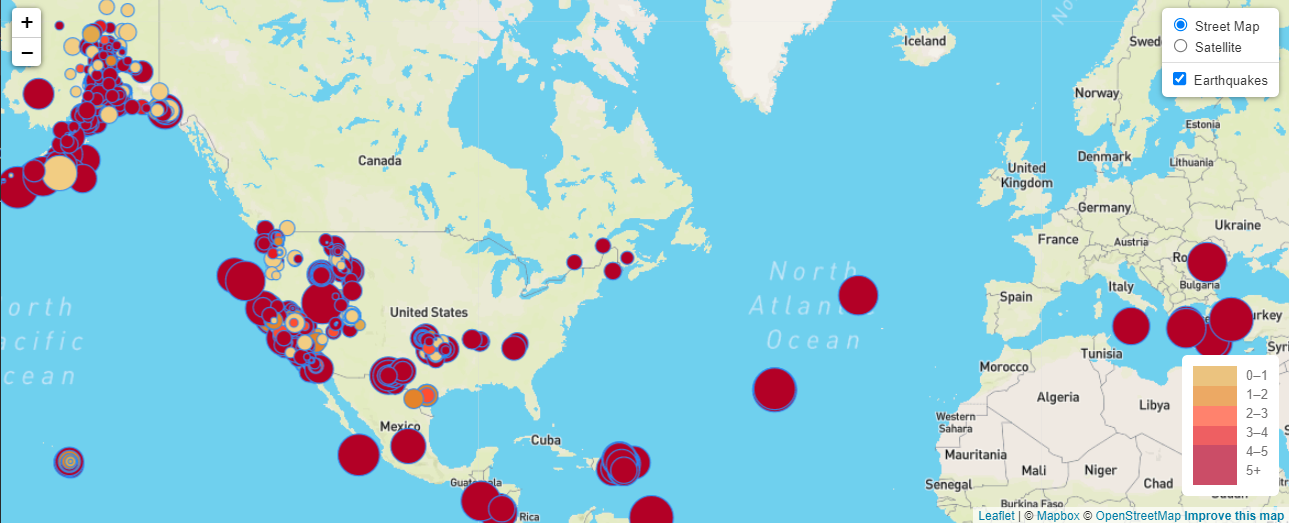

What the dashboard file says about the page in this screenshot:
{"tool":"tableau","page":{"name":"Dashboard 4","canvas":[800,600],"ordinal":3},"visuals":[{"type":"image","param":"Image/CitiBike.jpg","box":[12,16,451,90]}]}

Visuals, with their boxes on the page's 800x600 design canvas (x1, y1, x2, y2). These are canvas units, not pixel positions in the 1289x523 screenshot, which may show the page scaled, cropped or inside an application window:
image: <box>12,16,463,106</box>
